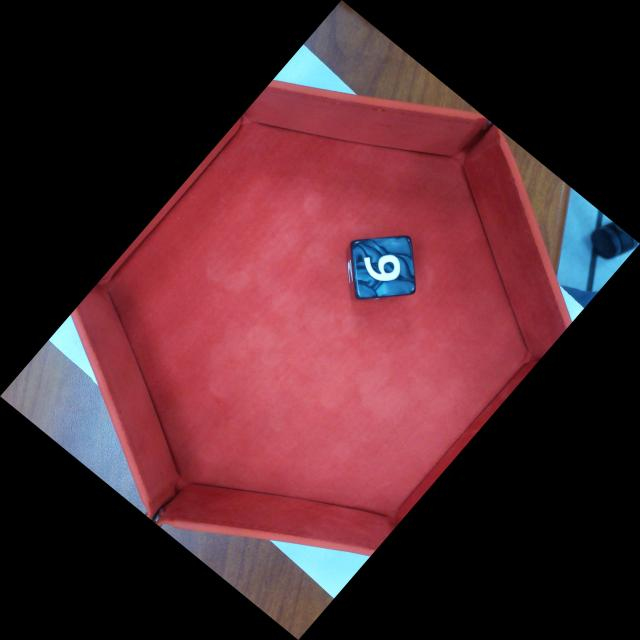dice: (351, 236, 414, 295)
